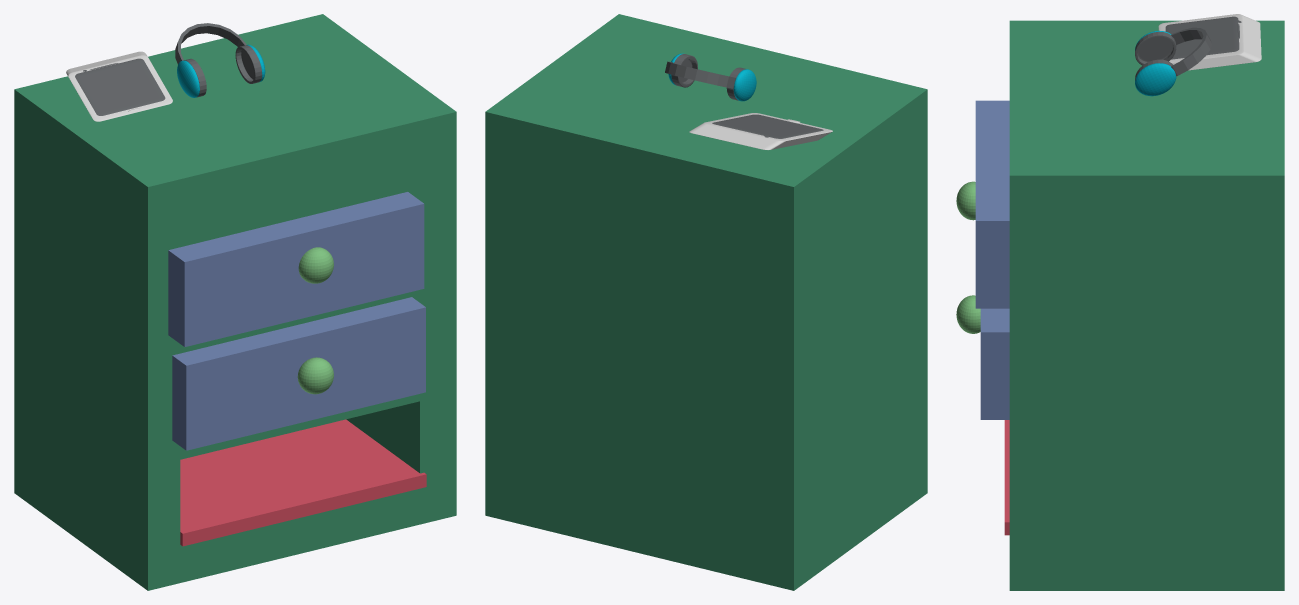
File: Pro 149.glb
The picture shows the model from 3 angles, left to right: view 1: azimuth 30°, elevation 25°; view 2: azimuth 150°, elevation 25°; view 3: azimuth 270°, elevation 25°; orthographic projection. The views are drawn at different scales.
Visible parts, largest first — view 1: Mesh_Mesh_head_geo.001_lambert2SG.001; view 2: Mesh_Mesh_head_geo.001_lambert2SG.001; view 3: Mesh_Mesh_head_geo.001_lambert2SG.001.
Boxes of the visible parts, x1,y1,x2,y2 form: Mesh_Mesh_head_geo.001_lambert2SG.001: (14,14,456,590); Mesh_Mesh_head_geo.001_lambert2SG.001: (485,14,927,590); Mesh_Mesh_head_geo.001_lambert2SG.001: (956,14,1284,590).
Size of the model in its own units: 76 by 108 by 68.
